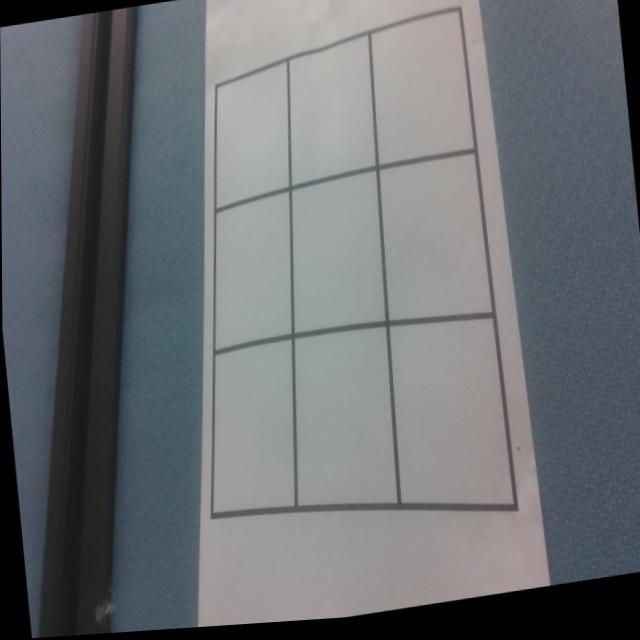null: (384, 318, 512, 530), (281, 329, 401, 525), (197, 340, 304, 527), (376, 161, 490, 334), (278, 177, 389, 341), (365, 16, 473, 174), (199, 193, 300, 359), (201, 61, 298, 219), (278, 40, 379, 191), (369, 13, 463, 72)
table: (167, 0, 512, 561)
